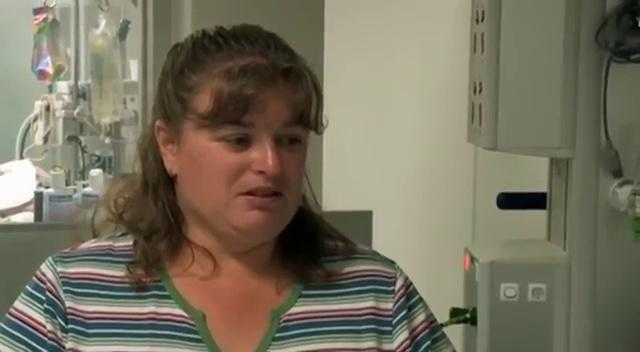others: (0, 14, 469, 352)
